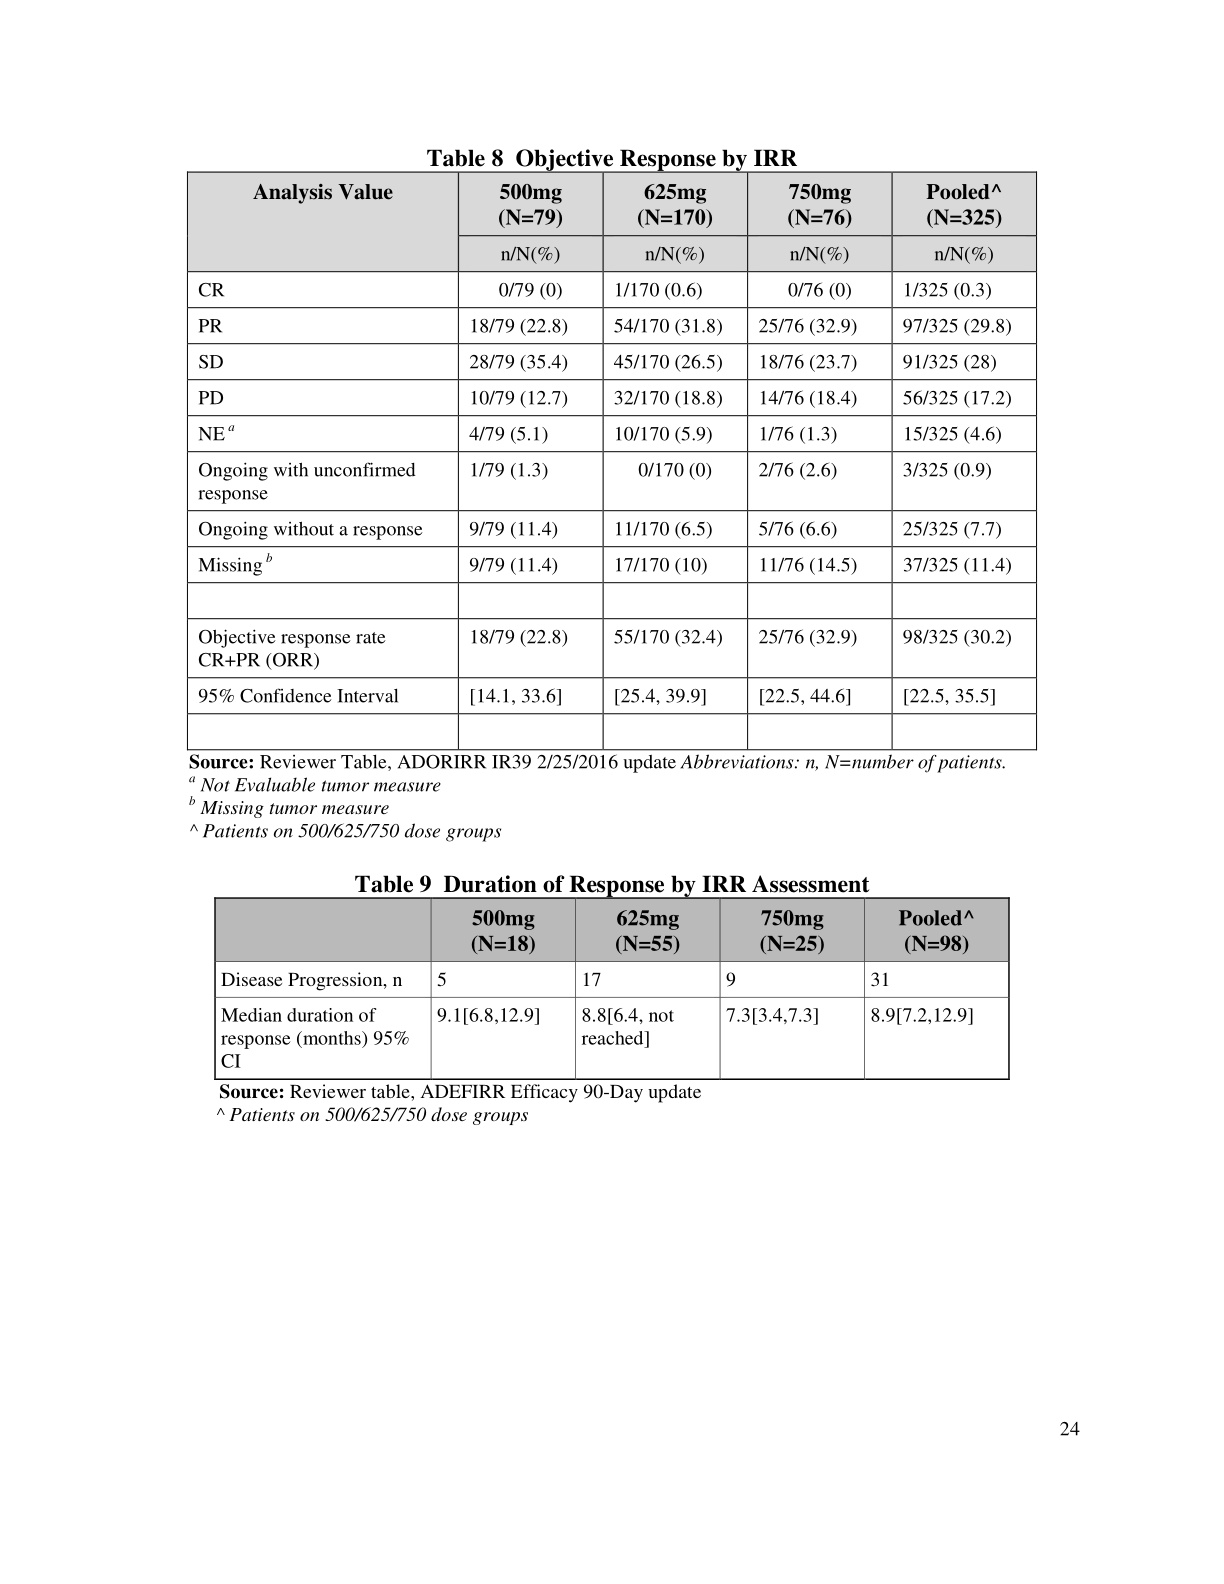full_lined: (213, 896, 1011, 1080)
merged_cells: (186, 171, 1038, 751)
